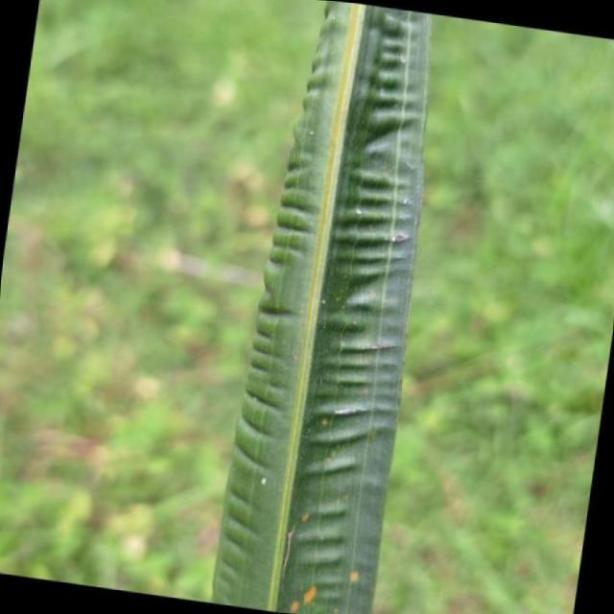Boron: (214, 0, 446, 609)
